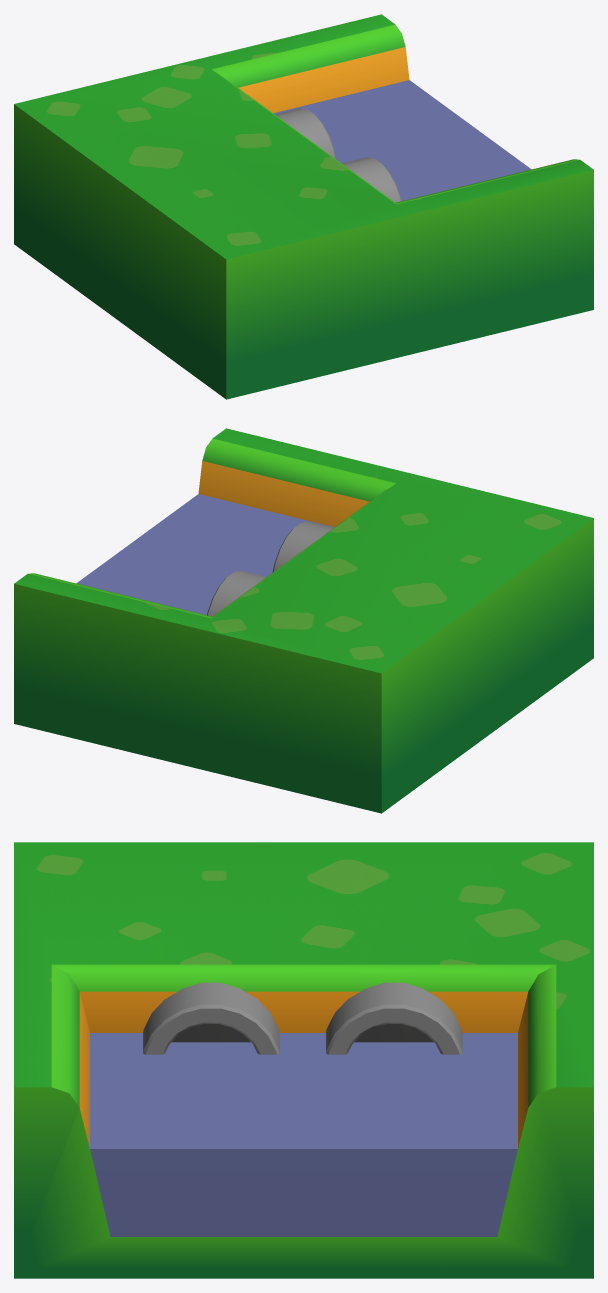
Rendered from RiverTile_4_2.glb.
3 renders of one model, top to bottom at view 1: azimuth 30°, elevation 25°; view 2: azimuth 150°, elevation 25°; view 3: azimuth 270°, elevation 25°, orthographic. The views are drawn at different scales.
Visible parts, largest first — view 1: RiverTile_4_2; view 2: RiverTile_4_2; view 3: RiverTile_4_2.
Boxes of the visible parts, x1=… form: RiverTile_4_2: x1=14, y1=14, x2=593, y2=399; RiverTile_4_2: x1=14, y1=428, x2=593, y2=813; RiverTile_4_2: x1=14, y1=842, x2=593, y2=1278.
Bounding box in the file's own units: 4 × 1.46 × 4.
Materials: 6 (6 with a texture image).
